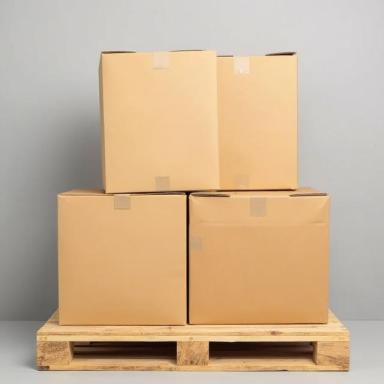pallet: (37, 307, 350, 372), (72, 341, 177, 360)
